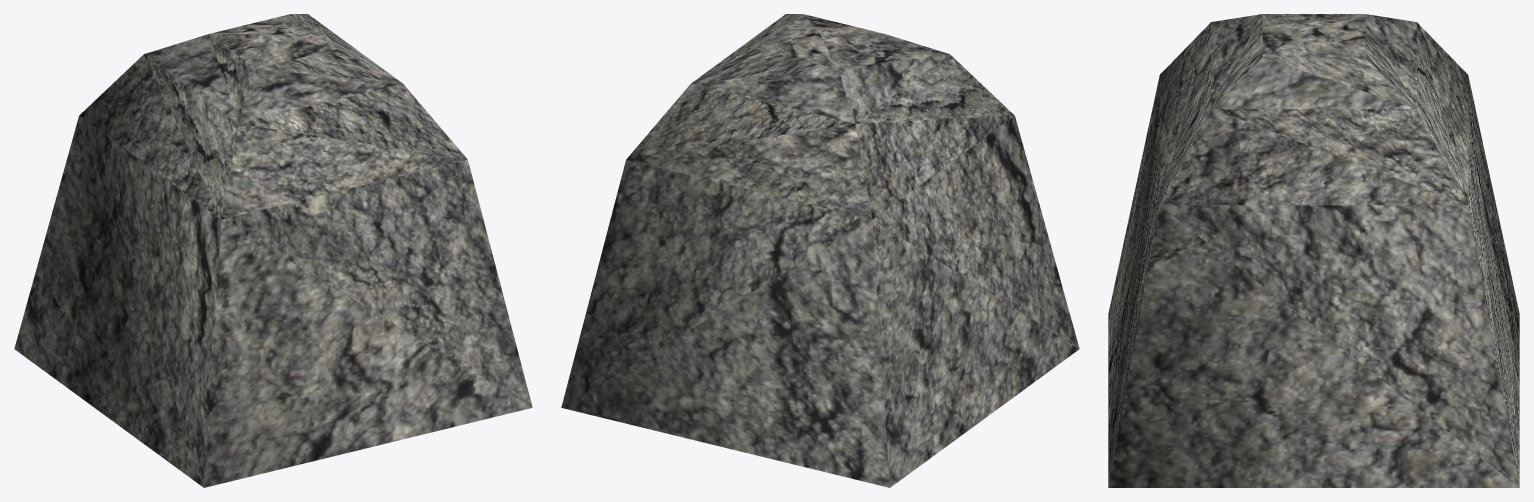
The model's file is Stone0a.obj.
The picture shows the model from 3 angles, left to right: view 1: azimuth 30°, elevation 25°; view 2: azimuth 150°, elevation 25°; view 3: azimuth 270°, elevation 25°; orthographic projection. The views are drawn at different scales.
Visible parts, largest first — view 1: Grid_Grid.003; view 2: Grid_Grid.003; view 3: Grid_Grid.003.
Part boxes in pixels (x1,y1,x2,y2): Grid_Grid.003: (14, 14, 532, 487); Grid_Grid.003: (561, 14, 1079, 487); Grid_Grid.003: (1108, 14, 1519, 487).
Size of the model in its own units: 1 by 1 by 1.
